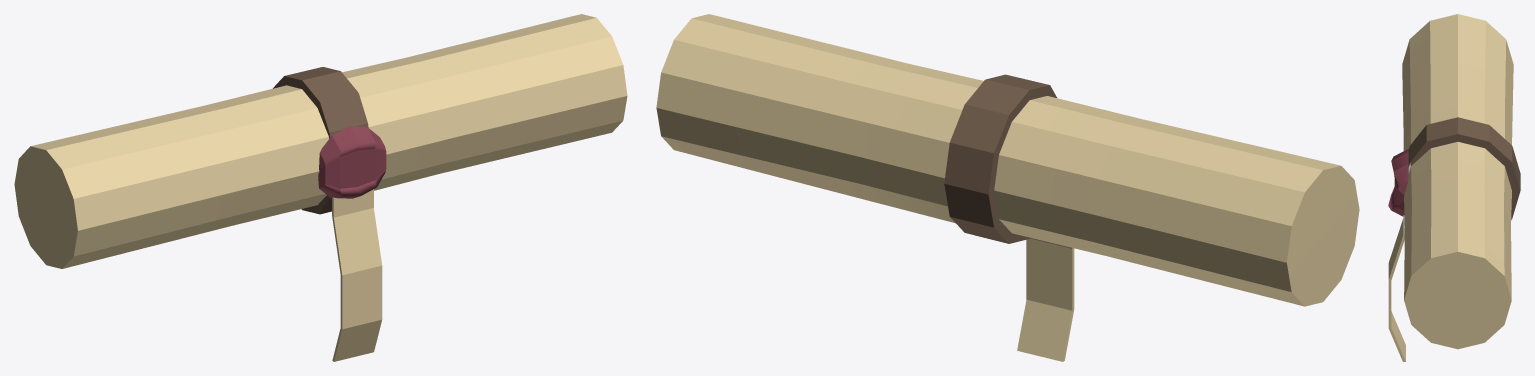
Rendered from SM_Parcheme2.fbx.
3 views of the same model, side by side, from view 1: azimuth 30°, elevation 25°; view 2: azimuth 150°, elevation 25°; view 3: azimuth 270°, elevation 25° (orthographic). The views are drawn at different scales.
Parts seen in each view (by area): view 1: pCube8; view 2: pCube8; view 3: pCube8.
Part boxes in pixels (<box>): pCube8: <box>14,14,627,361</box>; pCube8: <box>656,14,1359,361</box>; pCube8: <box>1388,14,1520,361</box>.
Size of the model in its own units: 8.76 by 3.93 by 2.08.
